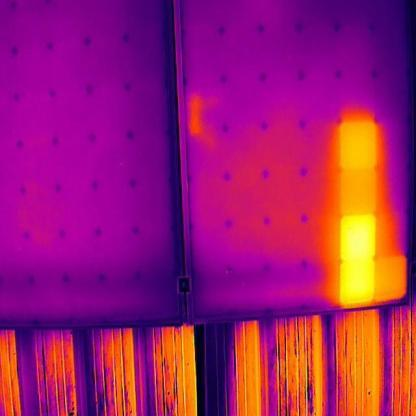anomaly: (330, 115, 412, 313)
